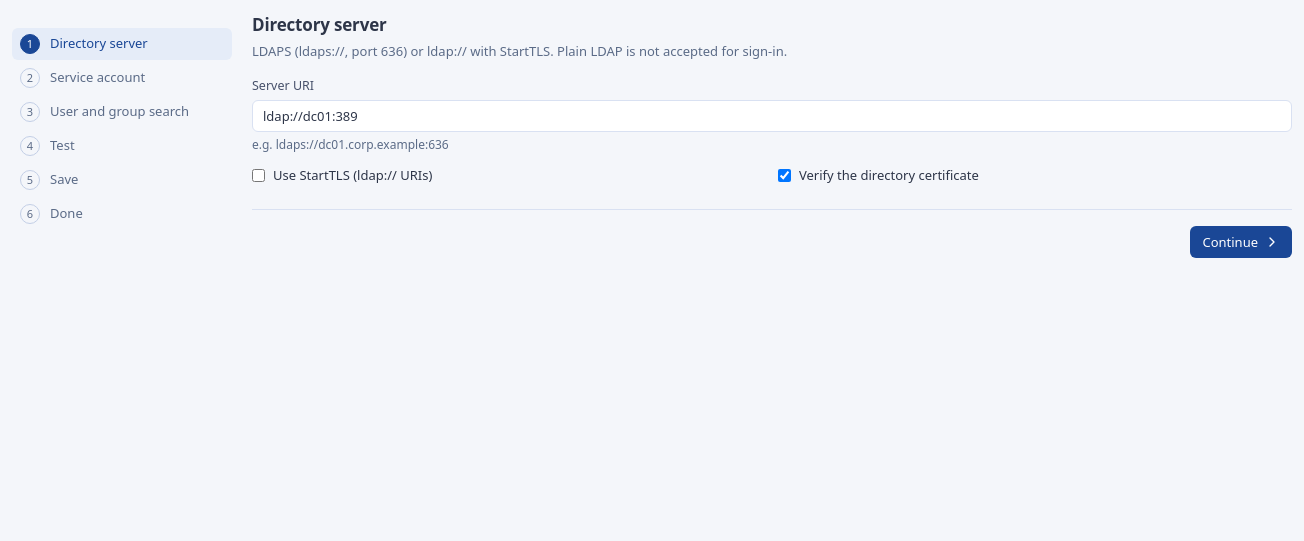
Test: identity wizards › LDAP: requires TLS, never shows the stored secret and runs staged tests
The width and height of the screenshot is (1304, 541).
Click the button "Continue": {"x": 1241, "y": 242} [1190, 226, 1292, 258]
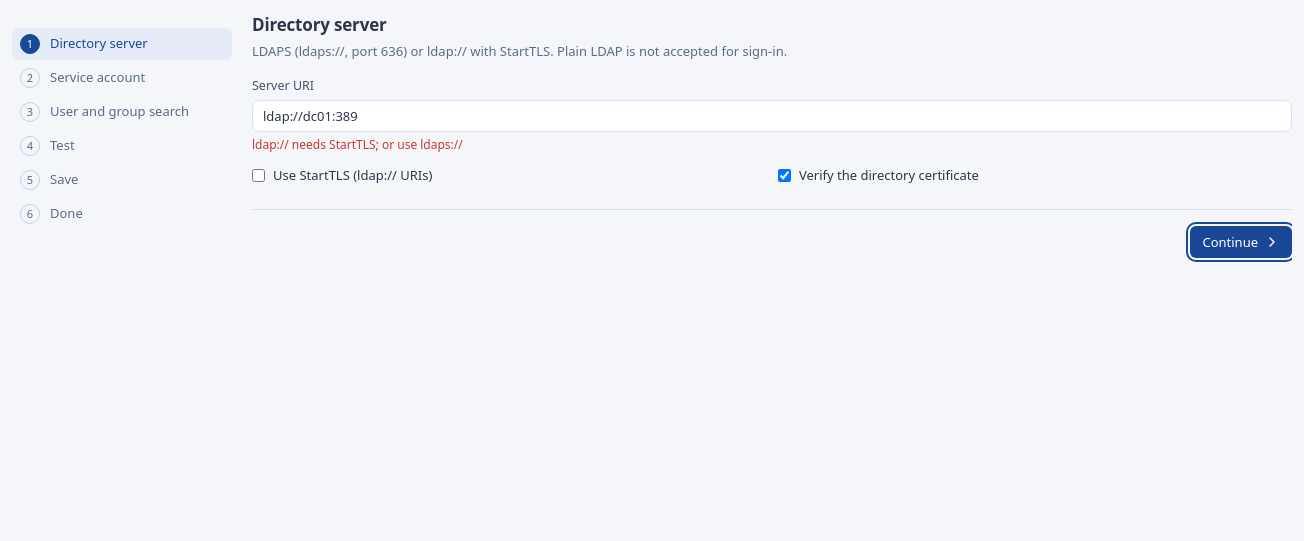
Expected: the text "ldap:// needs StartTLS; or use ldaps://" is shown, [252, 136, 463, 153]
Click the checkbox labelled "Use StartTLS (ldap:// URIs)": {"x": 258, "y": 176} [252, 169, 265, 182]
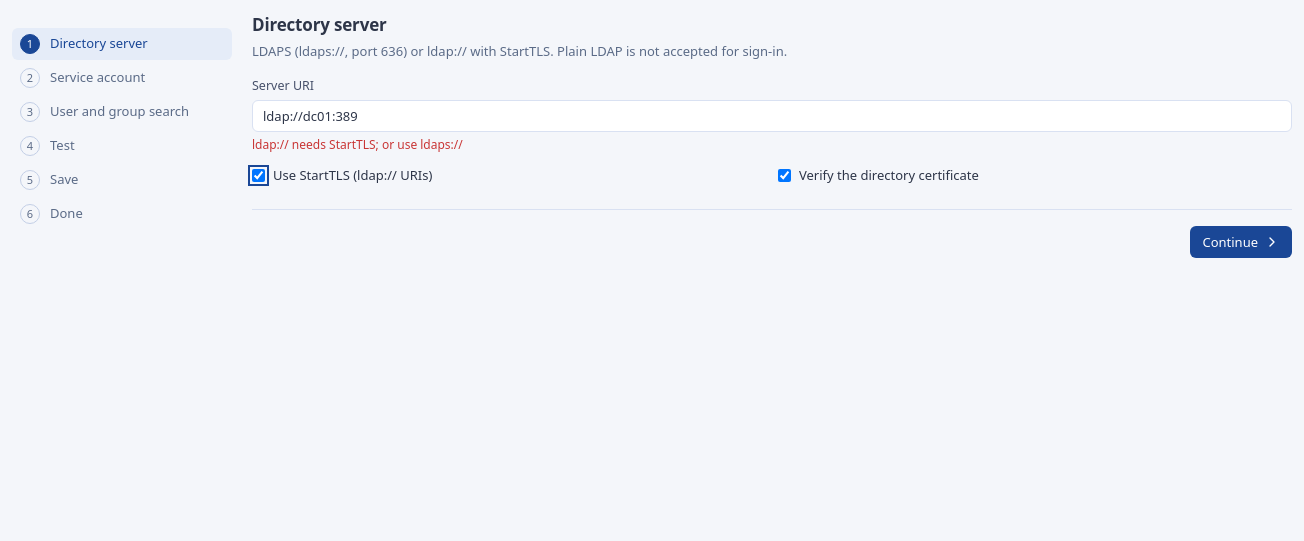
Click the button "Continue": {"x": 1241, "y": 242} [1190, 226, 1292, 258]
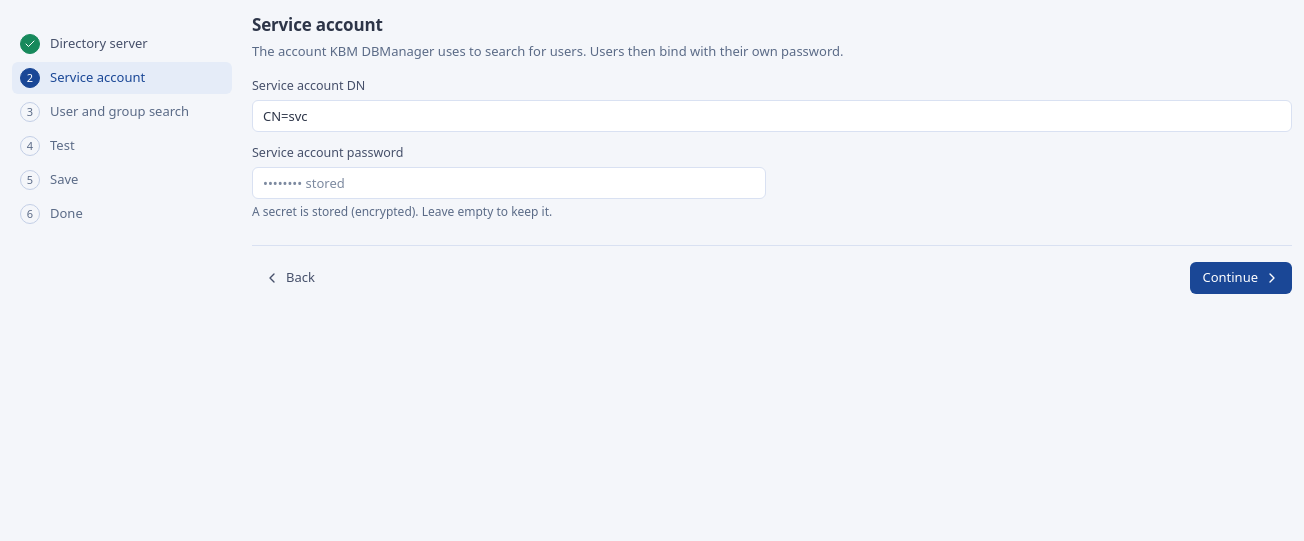
Expected: the password field labelled "Service account password" is empty, [252, 166, 766, 198]
Click the button "Continue": {"x": 1241, "y": 278} [1190, 262, 1292, 294]
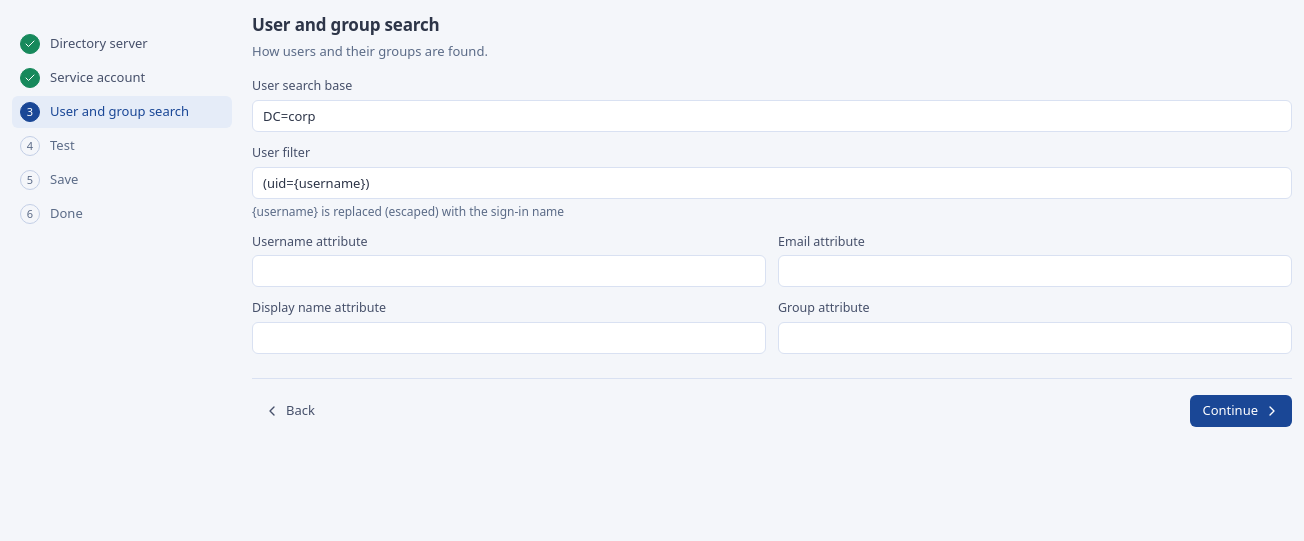
Click the button "Continue": {"x": 1241, "y": 411} [1190, 395, 1292, 427]
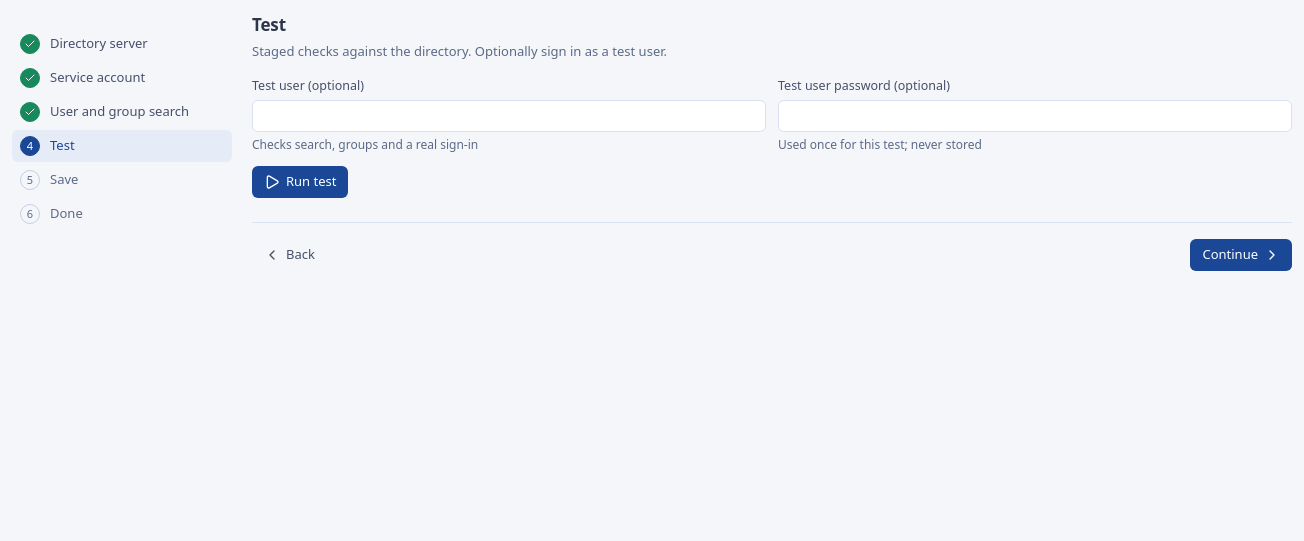
Click the button "Run test": {"x": 300, "y": 182} [252, 166, 348, 198]
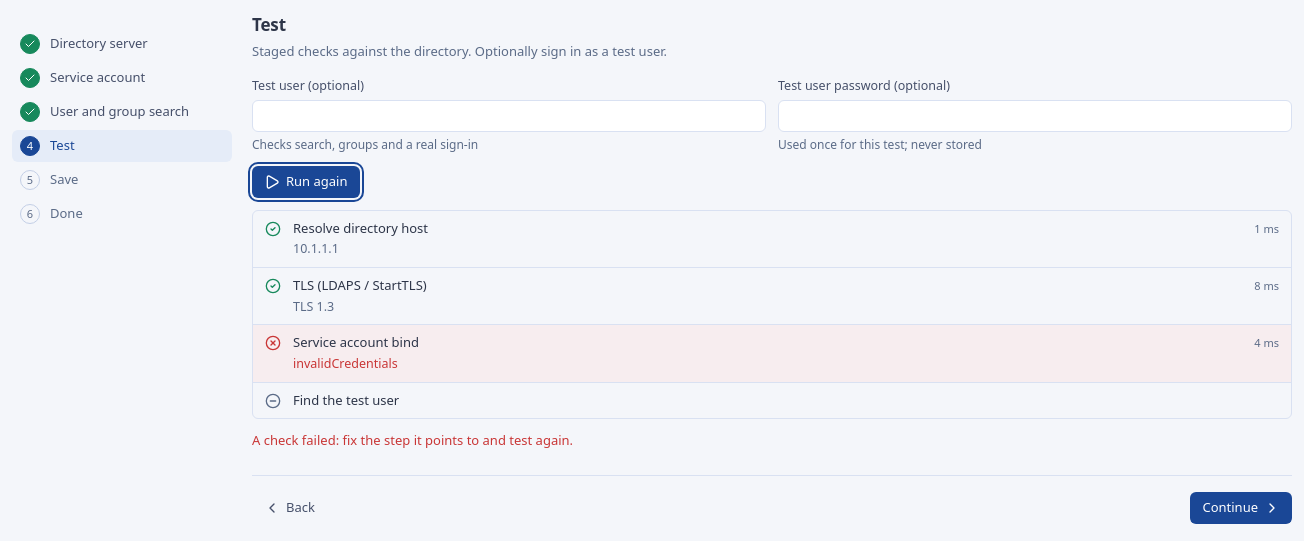
Expected: the text "invalidCredentials" is shown, [293, 355, 398, 372]
